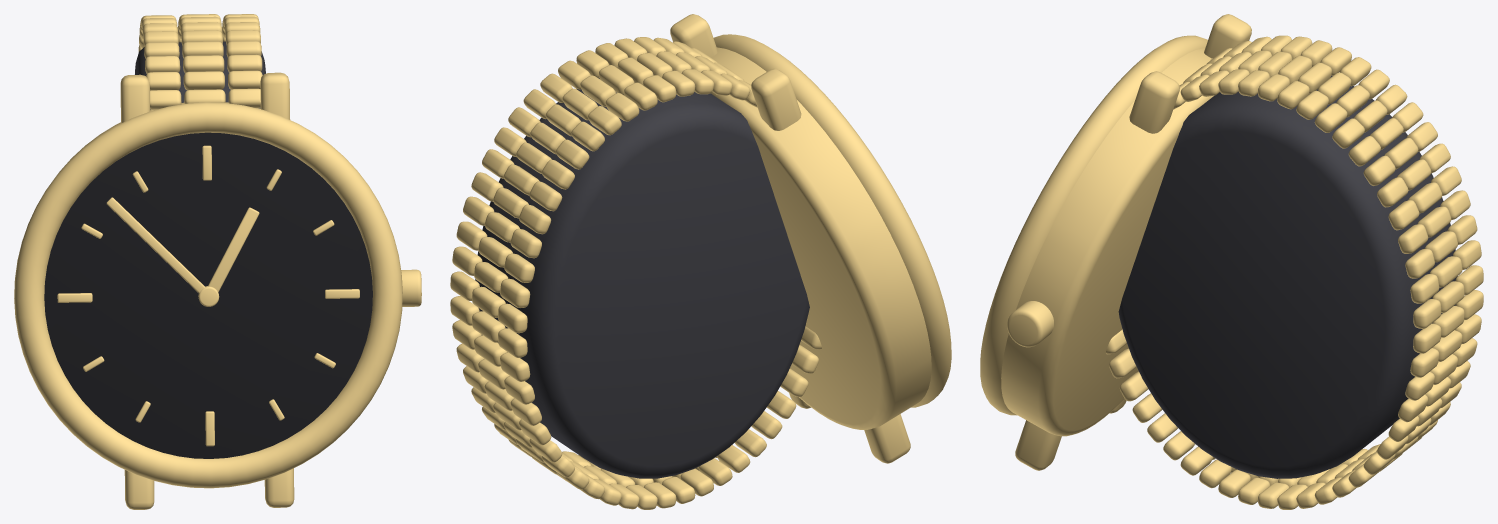
The model's file is reward-gold-watch.glb.
The picture shows the model from 3 angles, left to right: view 1: azimuth 30°, elevation 25°; view 2: azimuth 150°, elevation 25°; view 3: azimuth 270°, elevation 25°; orthographic projection. The views are drawn at different scales.
Visible parts, largest first — view 1: dial, bezel, minute, lug.001, lug, hour, lug.003, lug.002, cushion, mid.006, crown, mid.007 (+11 smaller); view 2: cushion, case, bezel, lug.001, lug.003, lug, mid.012, mid.020, side.040, mid.021, side.026, mid.022 (+38 smaller); view 3: cushion, case, bezel, lug, crown, lug.002, lug.001, side.025, side.039, side.041, side.029, side.037 (+27 smaller).
Part boxes in pixels (left/top/right/bottom): dial: left=44, top=132, right=372, bottom=458; bezel: left=14, top=102, right=402, bottom=488; minute: left=106, top=197, right=205, bottom=293; lug.001: left=120, top=74, right=150, bottom=123; lug: left=260, top=72, right=290, bottom=119; hour: left=208, top=207, right=259, bottom=292; lug.003: left=124, top=470, right=154, bottom=509; lug.002: left=264, top=468, right=294, bottom=507; cushion: left=135, top=41, right=265, bottom=109; mid.006: left=183, top=71, right=224, bottom=90; crown: left=401, top=269, right=421, bottom=306; mid.007: left=183, top=55, right=224, bottom=72; cushion: left=475, top=78, right=809, bottom=478; case: left=711, top=47, right=931, bottom=429; bezel: left=713, top=34, right=951, bottom=407; lug.001: left=751, top=69, right=801, bottom=130; lug.003: left=864, top=414, right=910, bottom=463; lug: left=670, top=14, right=717, bottom=57; mid.012: left=580, top=75, right=615, bottom=106; mid.020: left=478, top=237, right=513, bottom=267; side.040: left=504, top=253, right=534, bottom=282; mid.021: left=474, top=262, right=508, bottom=292; side.026: left=588, top=106, right=621, bottom=135; mid.022: left=472, top=286, right=505, bottom=317; cushion: left=1118, top=75, right=1457, bottom=478; case: left=1001, top=48, right=1213, bottom=436; bezel: left=980, top=35, right=1207, bottom=415; lug: left=1129, top=71, right=1179, bottom=133; crown: left=1007, top=301, right=1053, bottom=347; lug.002: left=1015, top=420, right=1061, bottom=470; lug.001: left=1204, top=14, right=1251, bottom=58; side.025: left=1296, top=90, right=1328, bottom=119; side.039: left=1398, top=224, right=1428, bottom=253; side.041: left=1405, top=249, right=1434, bottom=278; side.029: left=1332, top=118, right=1364, bottom=148; side.037: left=1388, top=200, right=1419, bottom=230.
Bounding box in the file's own units: 2.7 × 2.91 × 3.13.
